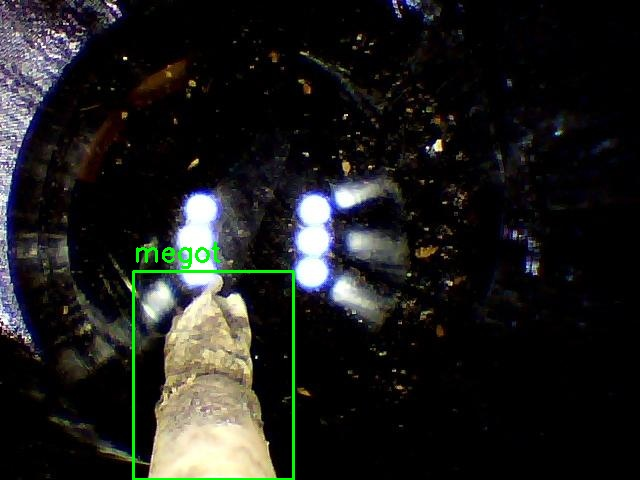megot: (133, 271, 293, 479)
